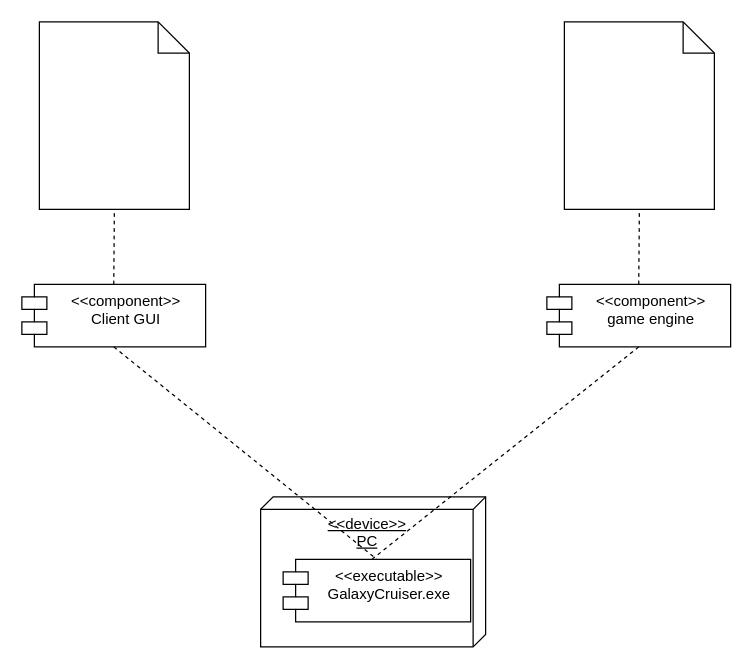
Image size: 753x669. Some labels were removed from this diagram. Each missing label, with the box of its shape:
<<artifact>> gui.py: (38, 21, 189, 209)
<<artifact>> pygame.dll: (563, 21, 714, 209)
